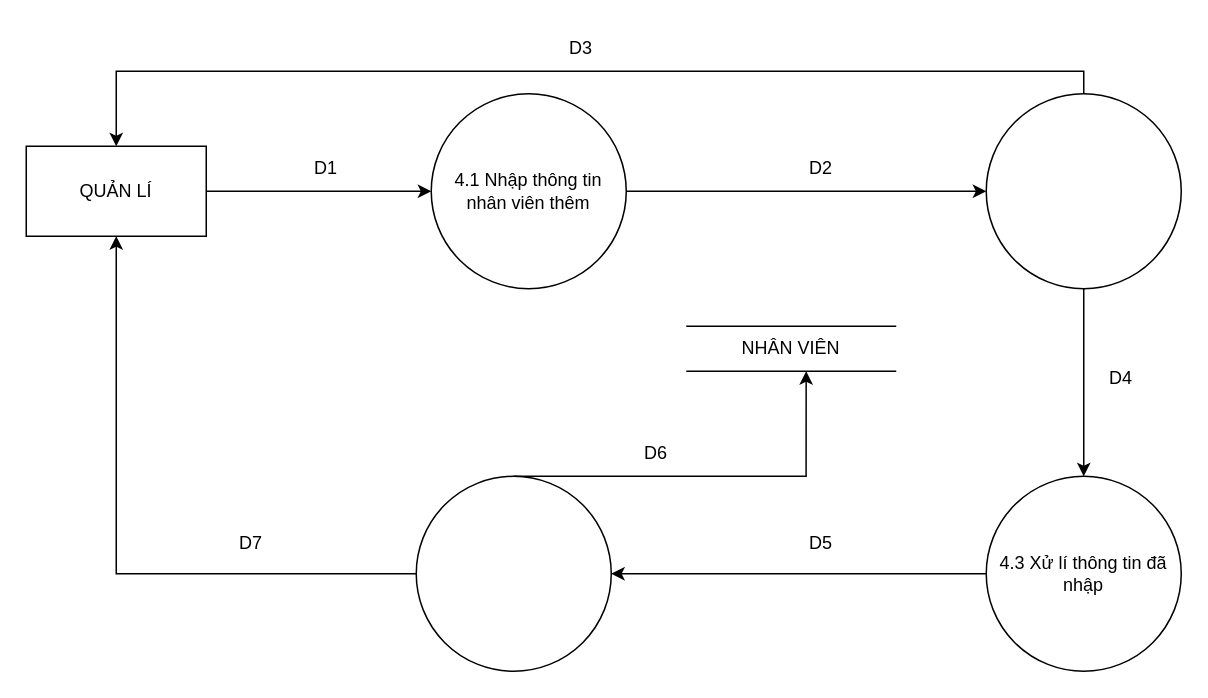
The diagram is 1208 pixels wide and 698 high, and some of its shapes have lost their labels. Here are the shapes that lost their labels. From the top down, the centre of each, then its label:
the point at 1083,190: 4.2 Kiểm tra thông tin đã nhập
the point at 513,573: 4.4 Lưu thông tin
